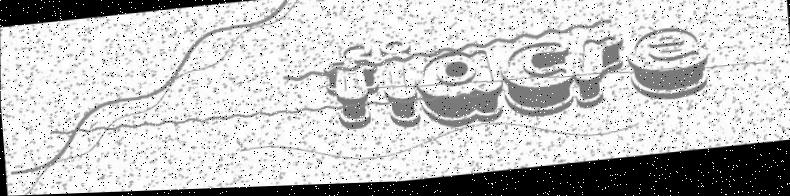a: (413, 47, 509, 141)
c: (494, 37, 581, 126)
e: (624, 26, 719, 110)
f: (322, 37, 382, 132)
i: (376, 37, 421, 132)
r: (571, 30, 627, 115)
